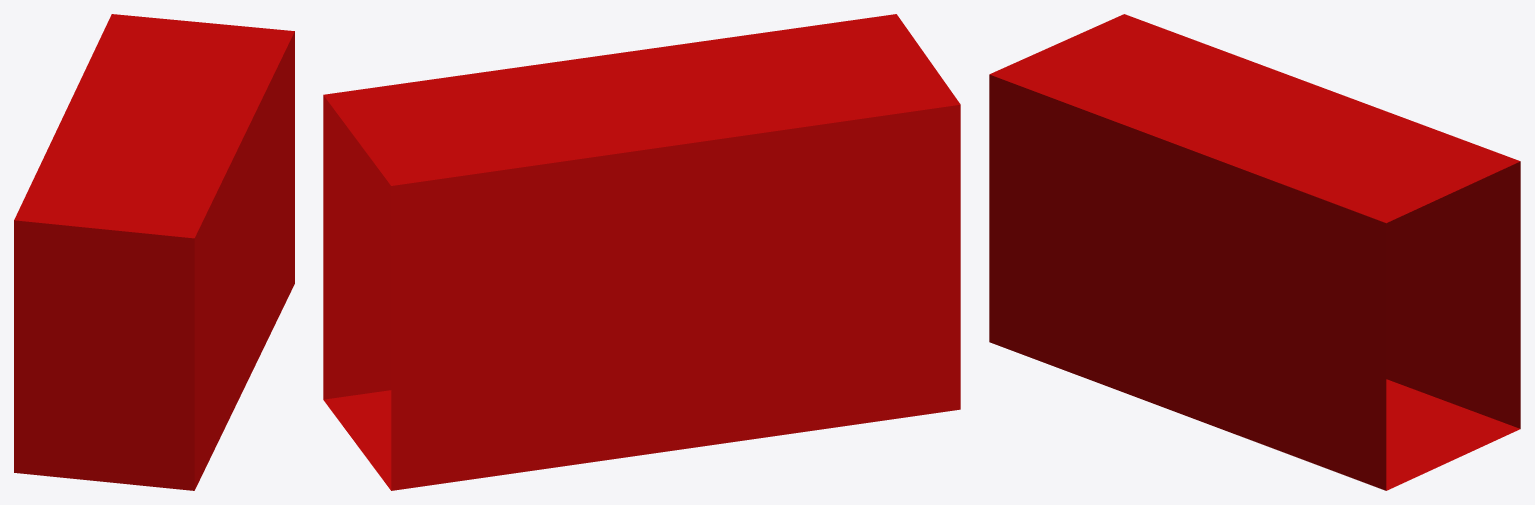
The model's file is gripper_left_collision.dae.
3 views of the same model, side by side, from view 1: azimuth 30°, elevation 25°; view 2: azimuth 150°, elevation 25°; view 3: azimuth 270°, elevation 25° (orthographic). The views are drawn at different scales.
Visible parts, largest first — view 1: gripper_left_collision; view 2: gripper_left_collision; view 3: gripper_left_collision.
Part boxes in pixels (x1,y1,x2,y2): gripper_left_collision: (14,14,294,490); gripper_left_collision: (323,14,960,490); gripper_left_collision: (989,14,1520,490).
Size of the model in its own units: 0.0254 by 0.0272 by 0.0151.
